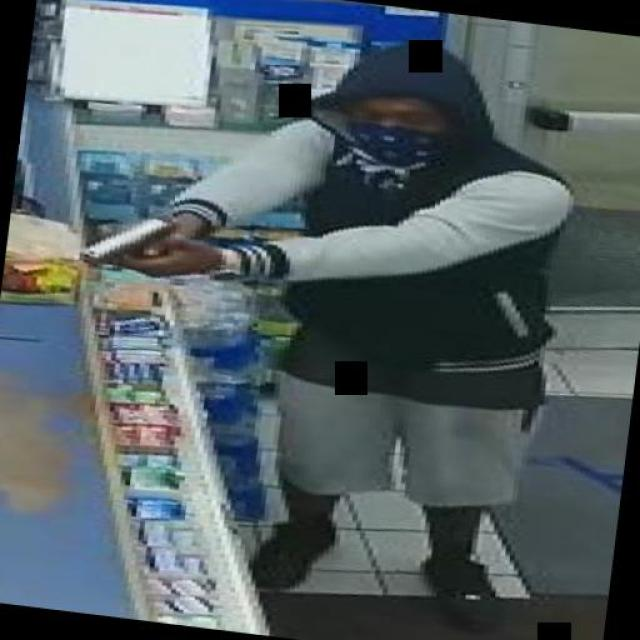gun: (68, 205, 192, 277)
